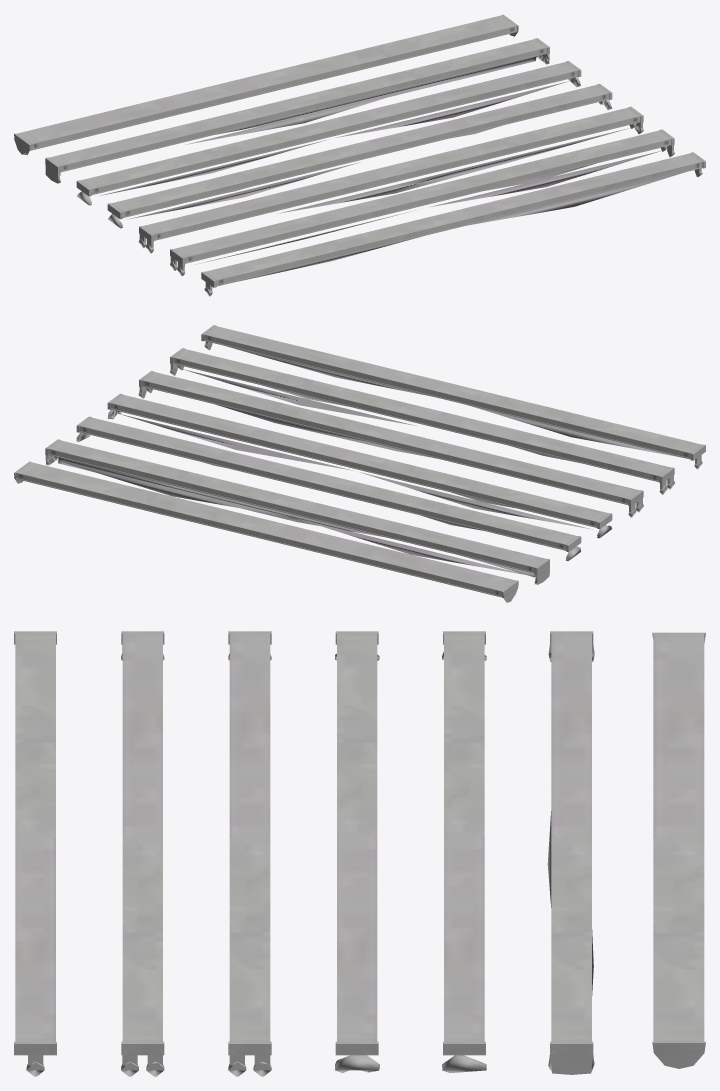
Rendered from fluorescent_lo.glb.
3 renders of one model, top to bottom at view 1: azimuth 30°, elevation 25°; view 2: azimuth 150°, elevation 25°; view 3: azimuth 270°, elevation 25°, orthographic. The views are drawn at different scales.
Visible parts, largest first — view 1: mounted_fluorescent_lights_f, mounted_fluorescent_lights_e, mounted_fluorescent_lights_c, mounted_fluorescent_lights_b, mounted_fluorescent_lights_g, mounted_fluorescent_lights_a, mounted_fluorescent_lights_d; view 2: mounted_fluorescent_lights_f, mounted_fluorescent_lights_d, mounted_fluorescent_lights_b, mounted_fluorescent_lights_g, mounted_fluorescent_lights_a, mounted_fluorescent_lights_c, mounted_fluorescent_lights_e; view 3: mounted_fluorescent_lights_g, mounted_fluorescent_lights_f, mounted_fluorescent_lights_c, mounted_fluorescent_lights_d, mounted_fluorescent_lights_b, mounted_fluorescent_lights_e, mounted_fluorescent_lights_a.
Boxes of the visible parts, bbox=[...] form: mounted_fluorescent_lights_f: bbox=[45, 38, 549, 183]; mounted_fluorescent_lights_e: bbox=[76, 61, 581, 205]; mounted_fluorescent_lights_c: bbox=[138, 106, 643, 253]; mounted_fluorescent_lights_b: bbox=[170, 129, 674, 276]; mounted_fluorescent_lights_g: bbox=[14, 14, 518, 155]; mounted_fluorescent_lights_a: bbox=[201, 152, 705, 296]; mounted_fluorescent_lights_d: bbox=[107, 83, 612, 228]; mounted_fluorescent_lights_f: bbox=[45, 439, 549, 584]; mounted_fluorescent_lights_d: bbox=[107, 393, 612, 538]; mounted_fluorescent_lights_b: bbox=[170, 348, 674, 494]; mounted_fluorescent_lights_g: bbox=[14, 461, 518, 602]; mounted_fluorescent_lights_a: bbox=[201, 325, 705, 469]; mounted_fluorescent_lights_c: bbox=[138, 371, 643, 517]; mounted_fluorescent_lights_e: bbox=[76, 416, 581, 560]; mounted_fluorescent_lights_g: bbox=[652, 632, 705, 1068]; mounted_fluorescent_lights_f: bbox=[547, 631, 594, 1074]; mounted_fluorescent_lights_c: bbox=[228, 631, 271, 1076]; mounted_fluorescent_lights_d: bbox=[335, 631, 379, 1072]; mounted_fluorescent_lights_b: bbox=[121, 631, 164, 1076]; mounted_fluorescent_lights_e: bbox=[442, 631, 486, 1072]; mounted_fluorescent_lights_a: bbox=[14, 631, 56, 1076].
Size of the model in its own units: 0.9122 by 0.0352 by 0.6454.
Materials: 2 (2 with a texture image).
